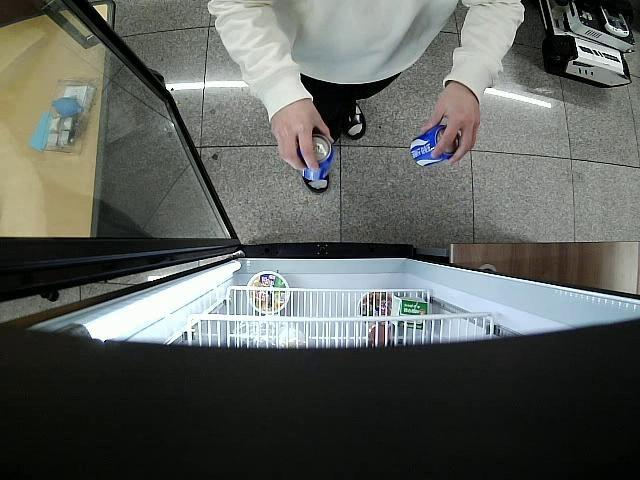13_pocariSweat: (409, 124, 460, 167), (300, 136, 332, 182)
